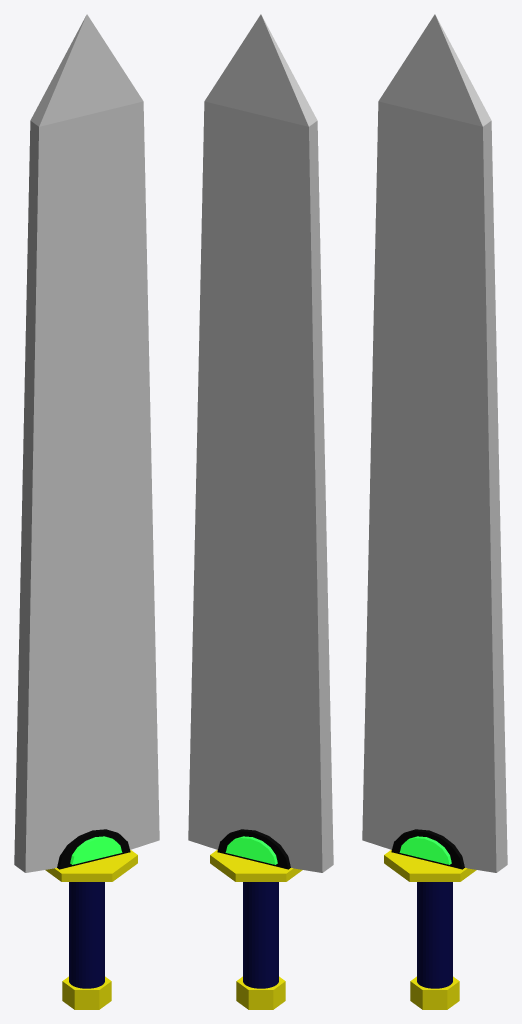
File: sword.fbx
3 views of the same model, side by side, from view 1: azimuth 30°, elevation 25°; view 2: azimuth 150°, elevation 25°; view 3: azimuth 330°, elevation 25° (orthographic).
Parts seen in each view (by area): view 1: blade, HANDLE, Cylinder.001, Cylinder, Cylinder.002, Cylinder.003; view 2: blade, HANDLE, Cylinder.001, Cylinder, Cylinder.002, Cylinder.003; view 3: blade, HANDLE, Cylinder.001, Cylinder, Cylinder.002, Cylinder.003.
Boxes of the visible parts, x1,y1,x2,y2 form: blade: [14, 14, 159, 872]; HANDLE: [69, 882, 104, 988]; Cylinder.001: [45, 850, 137, 881]; Cylinder: [62, 976, 111, 1009]; Cylinder.002: [57, 829, 130, 869]; Cylinder.003: [70, 836, 122, 864]; blade: [188, 14, 333, 872]; HANDLE: [243, 882, 278, 988]; Cylinder.001: [210, 850, 302, 881]; Cylinder: [236, 976, 285, 1009]; Cylinder.002: [217, 829, 290, 869]; Cylinder.003: [225, 836, 277, 864]; blade: [362, 14, 507, 872]; HANDLE: [417, 882, 452, 988]; Cylinder.001: [384, 850, 476, 881]; Cylinder: [410, 976, 459, 1009]; Cylinder.002: [391, 829, 464, 869]; Cylinder.003: [399, 836, 451, 864].
Size of the model in its own units: 631 by 4431 by 414.
